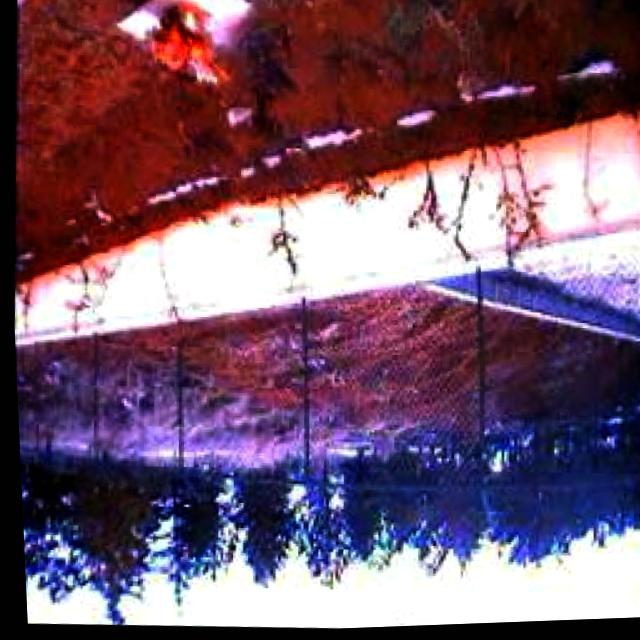helmet: (144, 8, 239, 93)
